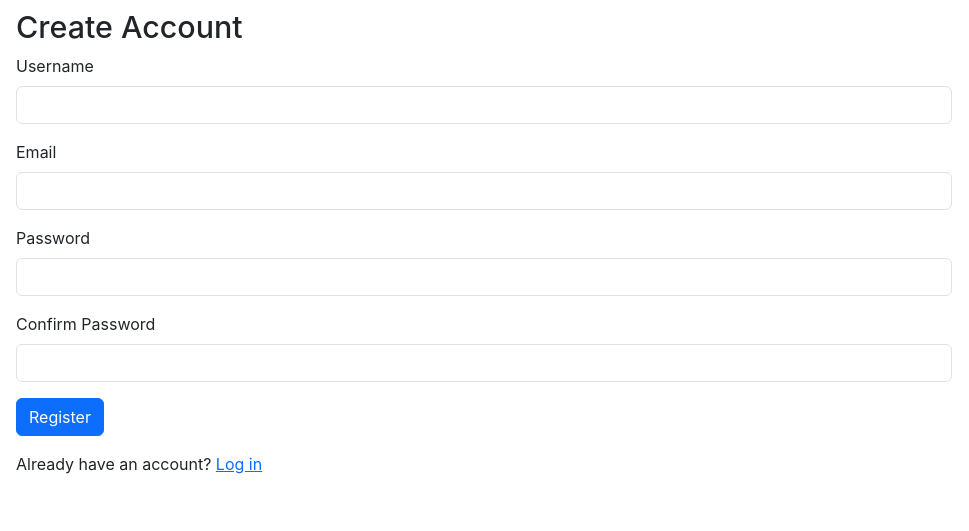
Test: Register › displays backend registration error
Type "nate" into the field labelled "Username". click: point(484, 104)
box: [16,86,952,124]
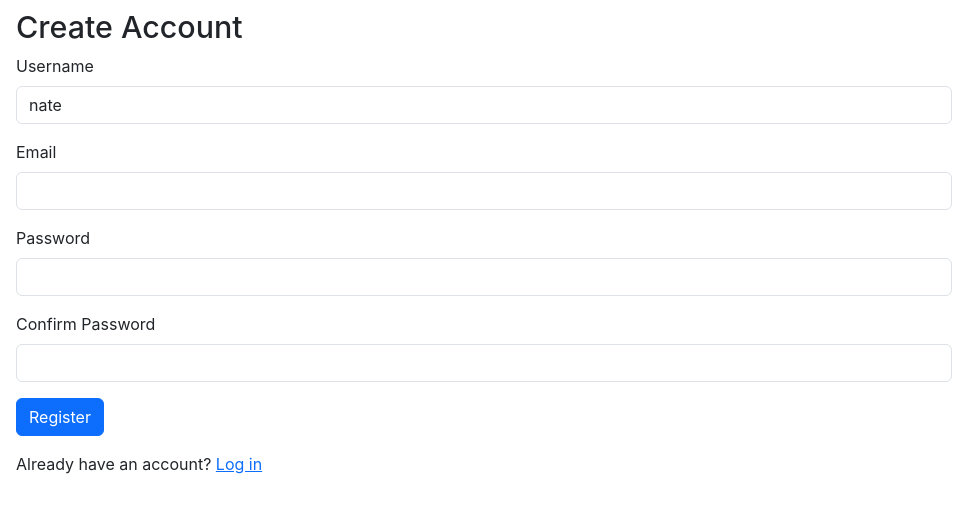
Type "nate@example.com" into the field labelled "Email". click: point(484, 190)
box: [16,172,952,210]
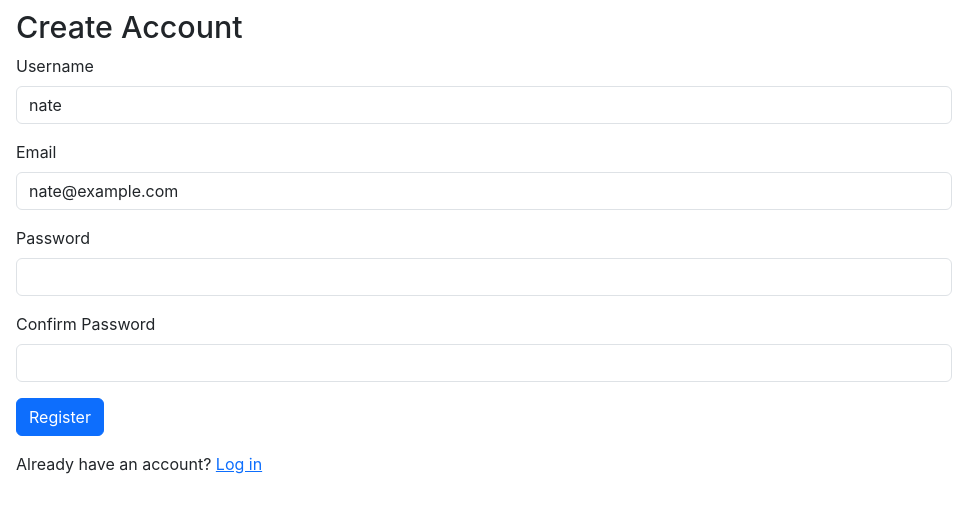
Type "password123" into the password field labelled "Password". click: point(484, 276)
box: [16,258,952,296]
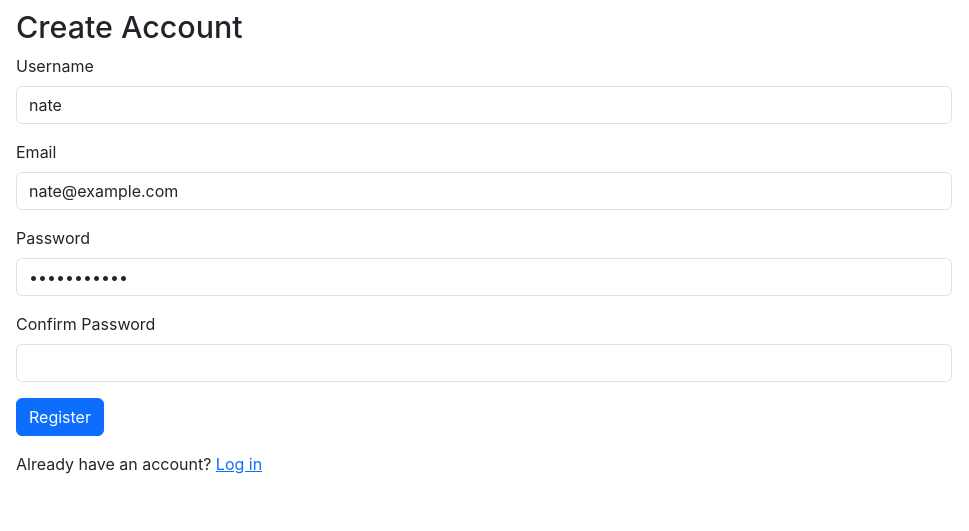
Type "password123" into the password field labelled "Confirm Password". click: point(484, 362)
box: [16,344,952,382]
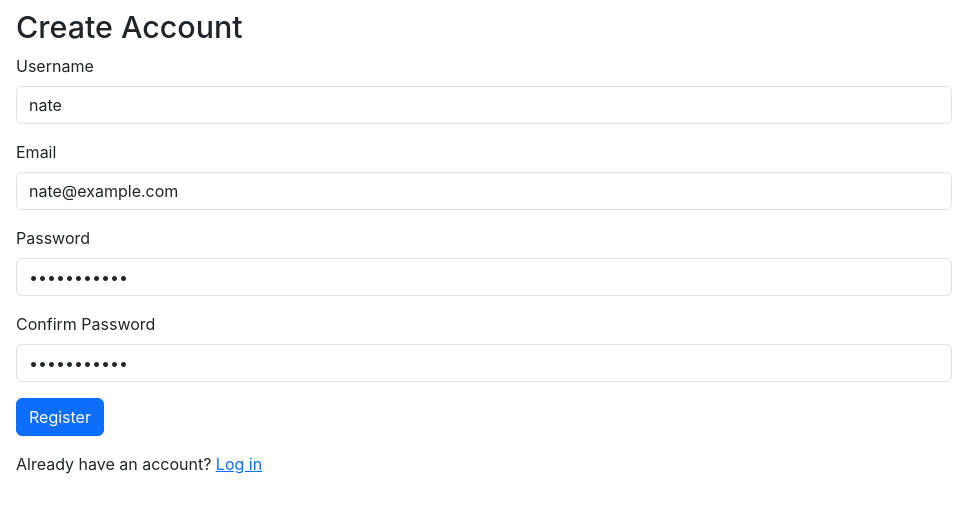
Click the button "Register". click: point(60, 416)
box: [16,398,104,436]
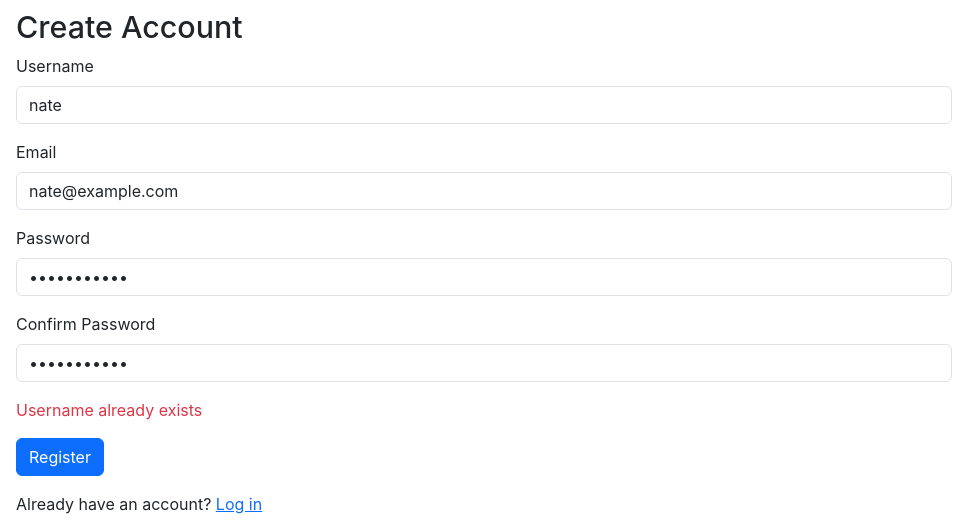
Check: the text "Username already exists" is shown, box [16,400,202,420]
